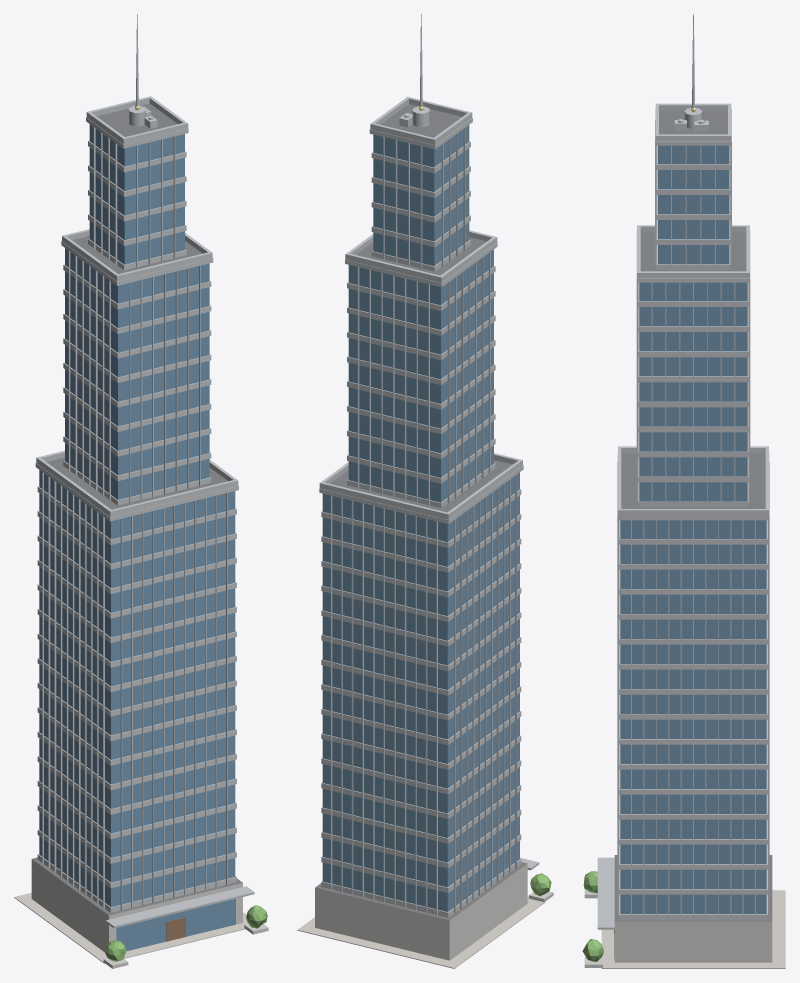
The picture shows the model from 3 angles, left to right: view 1: azimuth 30°, elevation 25°; view 2: azimuth 150°, elevation 25°; view 3: azimuth 270°, elevation 25°; orthographic projection. The views are drawn at different scales.
Parts seen in each view (by area): view 1: c_3_2_a; view 2: c_3_2_a; view 3: c_3_2_a.
Part boxes in pixels (left/top/right/bottom): c_3_2_a: left=14, top=14, right=268, bottom=968; c_3_2_a: left=297, top=14, right=553, bottom=968; c_3_2_a: left=582, top=14, right=785, bottom=968.
Bounding box in the file's own units: 24.51 × 132 × 26.48.
